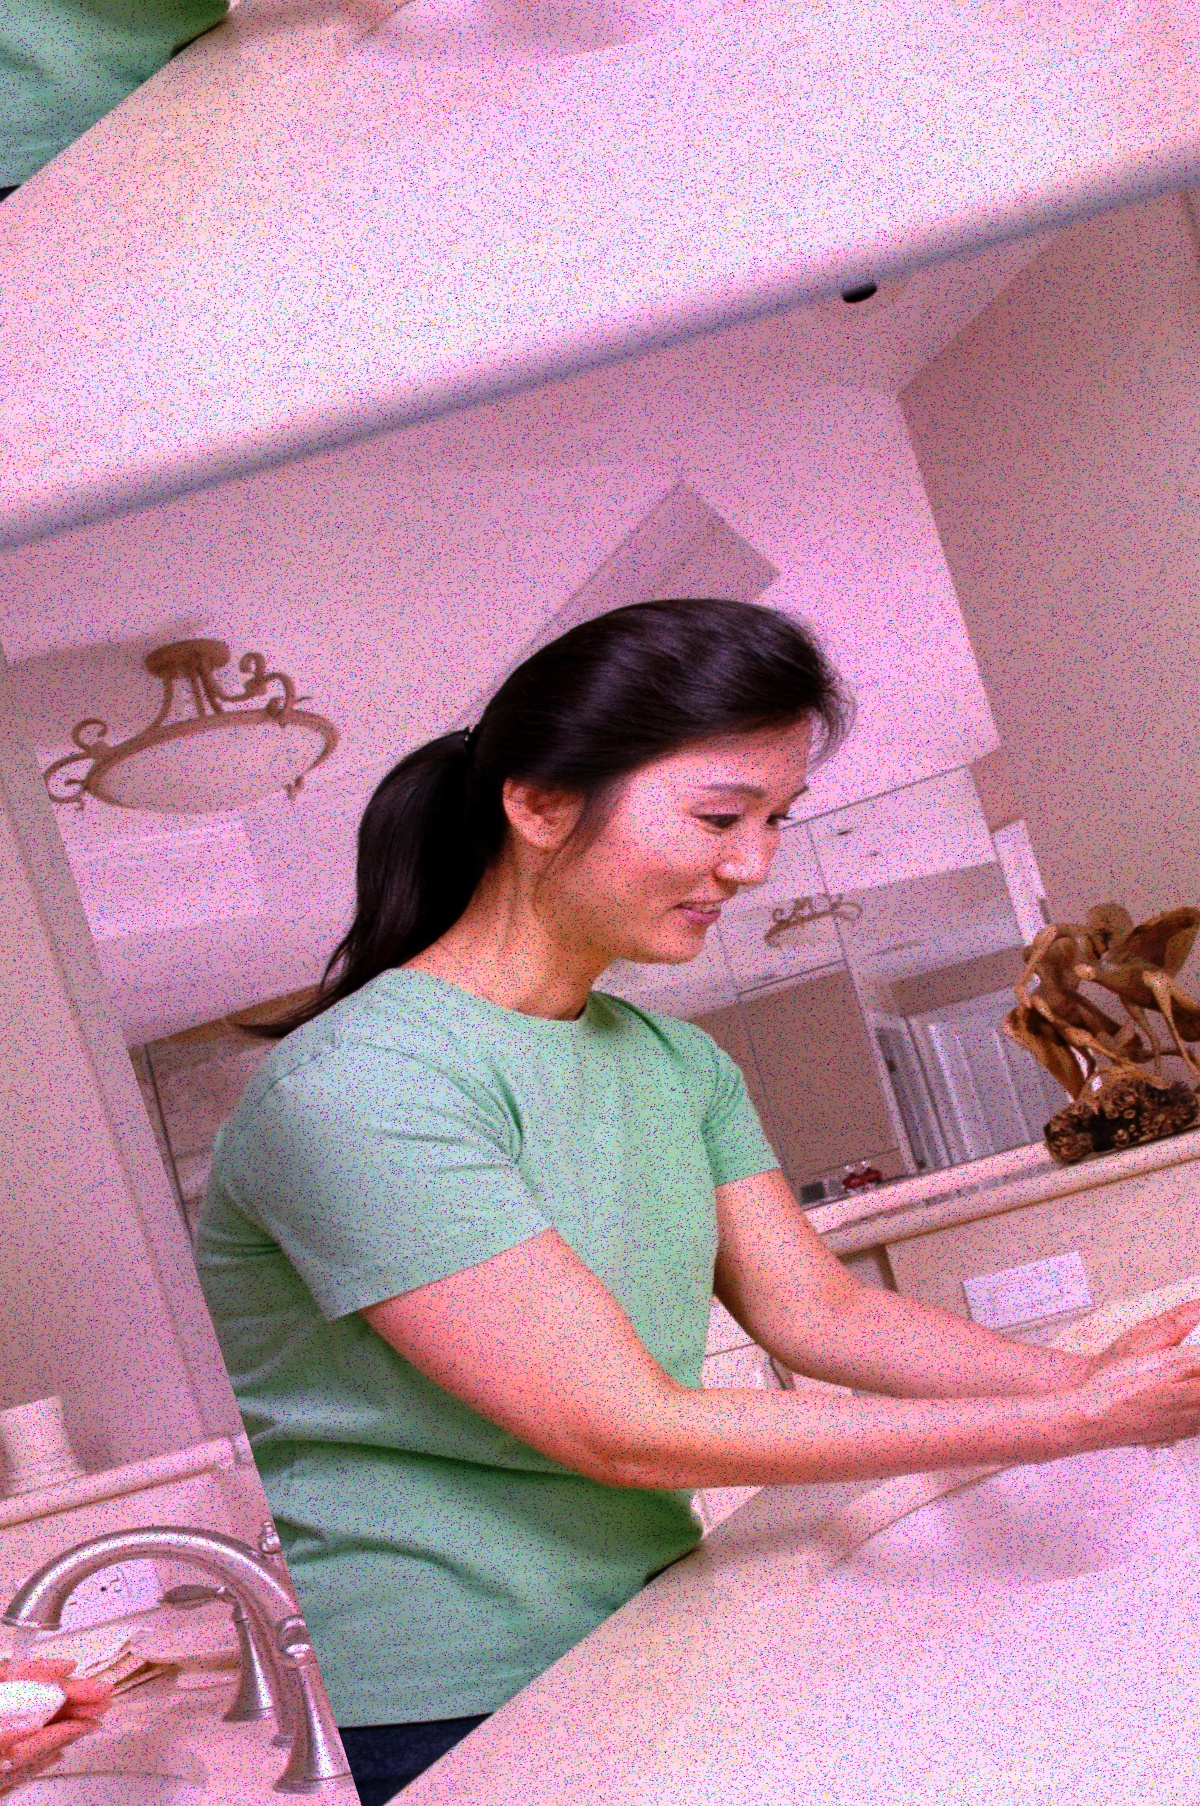washing hand: (991, 1046, 1199, 1557)
